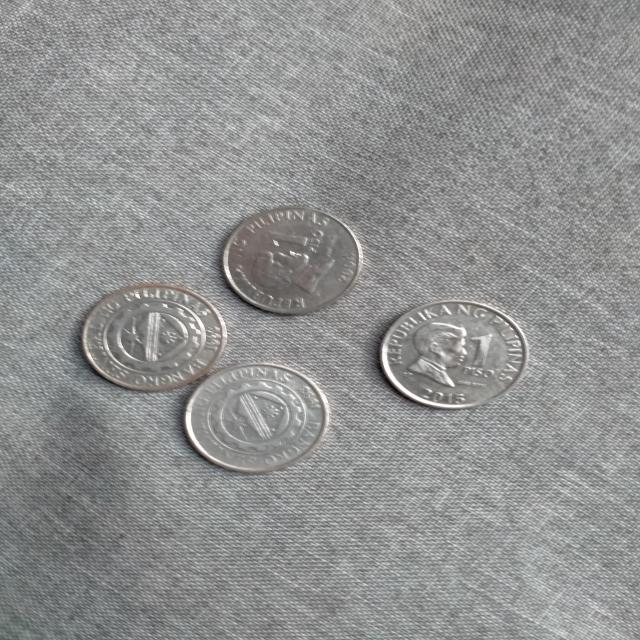1_Old_Back: (102, 295, 208, 377)
